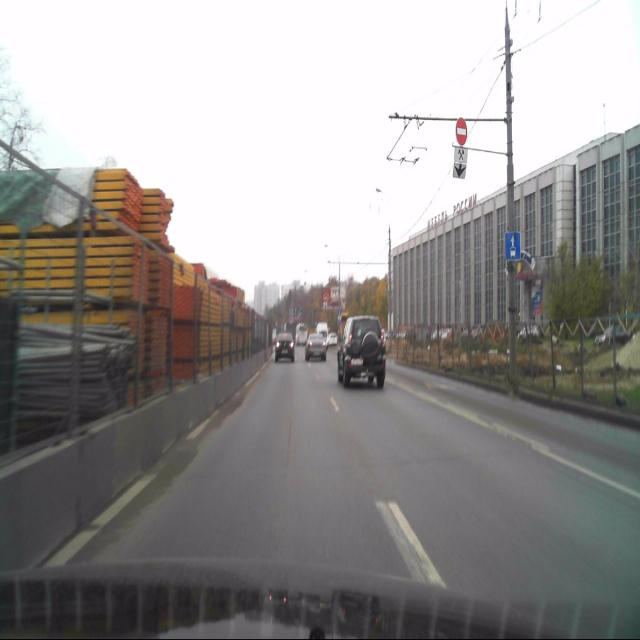road sign: (504, 232, 520, 260)
